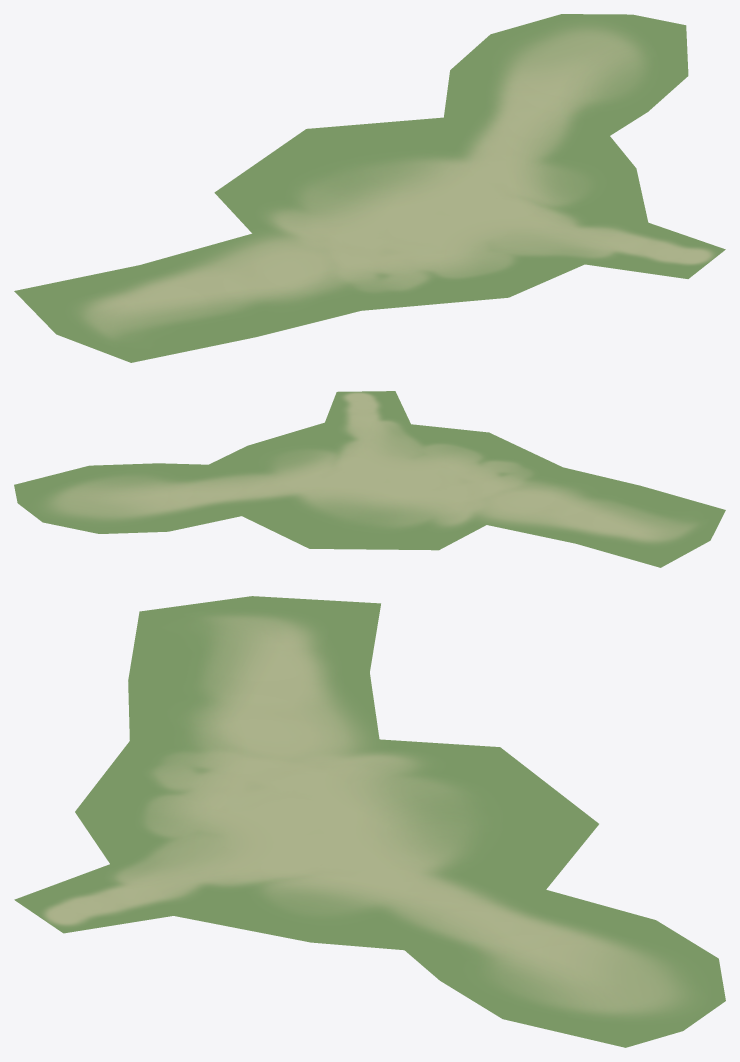
File: first level ground.glb
3 views of the same model, one above another, from view 1: azimuth 30°, elevation 25°; view 2: azimuth 150°, elevation 25°; view 3: azimuth 270°, elevation 25° (orthographic). The views are drawn at different scales.
Visible parts, largest first — view 1: ground; view 2: ground; view 3: ground.
Part boxes in pixels (x1,y1,x2,y2): ground: (14, 14, 725, 362); ground: (14, 391, 725, 567); ground: (14, 596, 725, 1047).
Size of the model in its own units: 64.51 by 0 by 42.96.
1 material, 1 textured.
